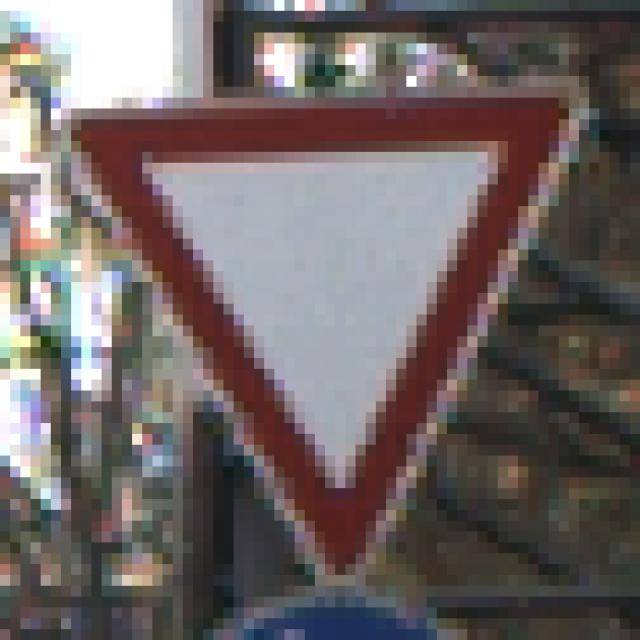Give Way: (62, 66, 580, 587)
